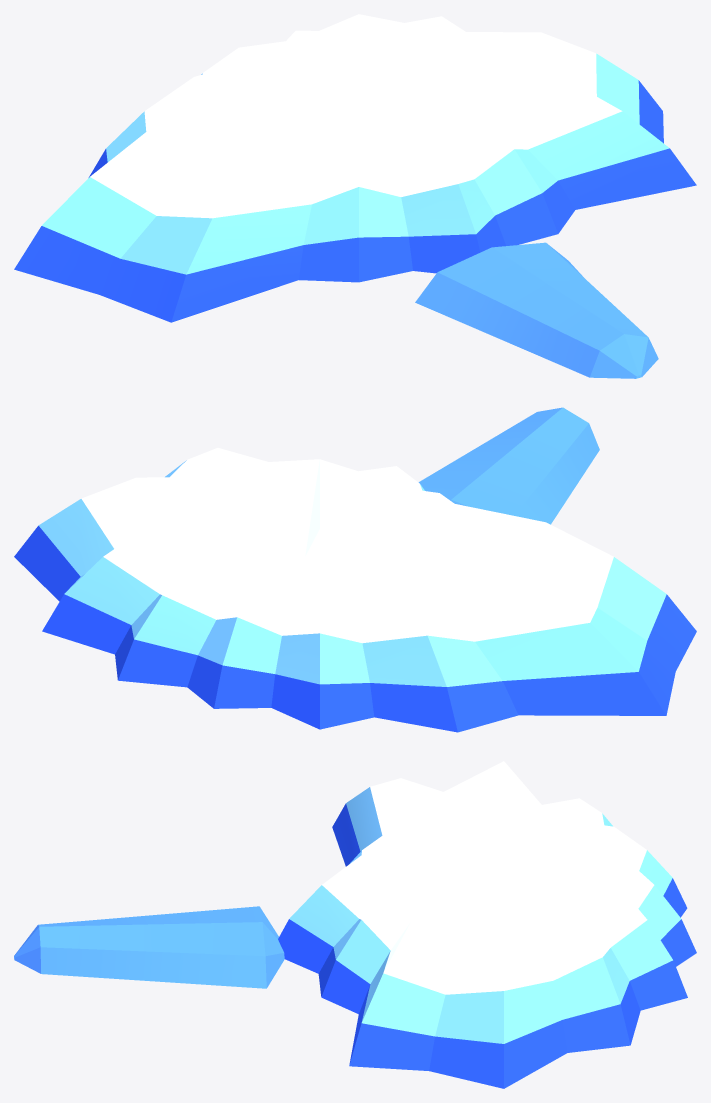
Rendered from shot_ice_135.glb.
3 views of the same model, one above another, from view 1: azimuth 30°, elevation 25°; view 2: azimuth 150°, elevation 25°; view 3: azimuth 270°, elevation 25° (orthographic). The views are drawn at different scales.
Visible parts, largest first — view 1: shot_ice_135_cap, shot_ice_135_trail; view 2: shot_ice_135_cap, shot_ice_135_trail; view 3: shot_ice_135_cap, shot_ice_135_trail.
Boxes of the visible parts, <box> form: shot_ice_135_cap: <box>14,14,696,322</box>; shot_ice_135_trail: <box>415,242,658,378</box>; shot_ice_135_cap: <box>14,448,696,732</box>; shot_ice_135_trail: <box>418,407,599,524</box>; shot_ice_135_cap: <box>278,761,696,1088</box>; shot_ice_135_trail: <box>14,906,284,988</box>.
Bounding box in the file's own units: 12.3 × 3.1 × 12.23.
